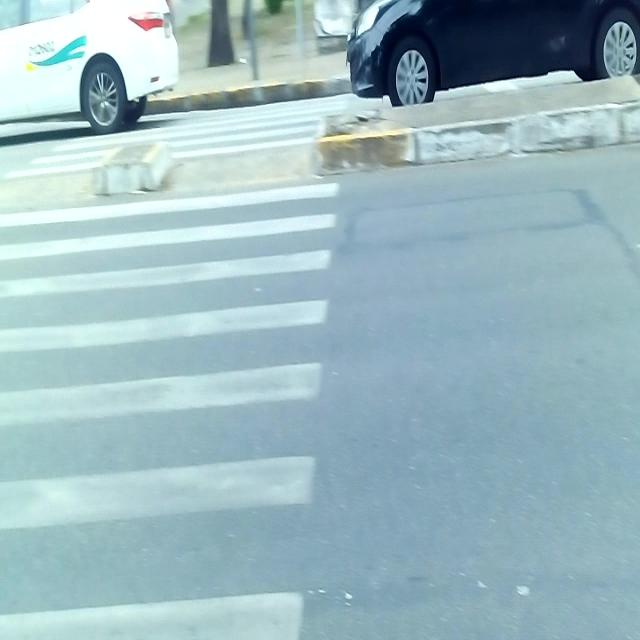crosswalk: (0, 93, 351, 640)
